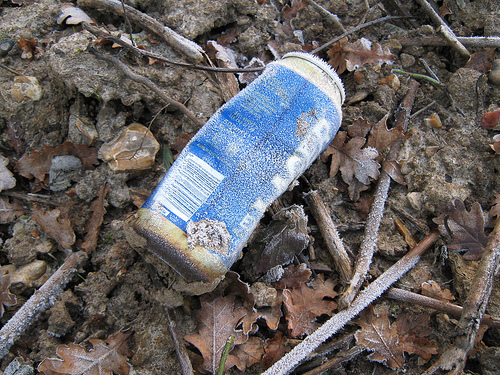litter: (127, 48, 343, 285)
